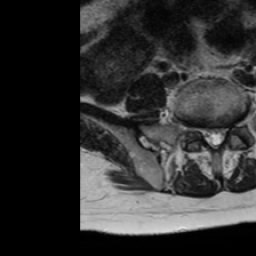CCS_normal: (210, 119, 218, 155)
LFS_severe_stenosis: (227, 113, 235, 136)
LLS_normal: (218, 119, 227, 148)
RFS_severe_stenosis: (193, 116, 201, 140)
RLS_normal: (201, 118, 210, 150)
